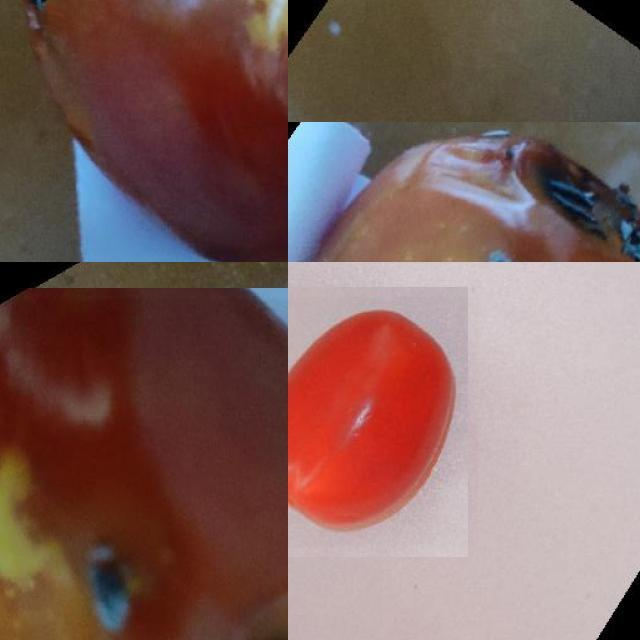Fresh Tomato: (288, 296, 477, 547)
Rotten Tomato: (0, 298, 288, 640), (0, 0, 288, 262), (288, 141, 640, 262)
